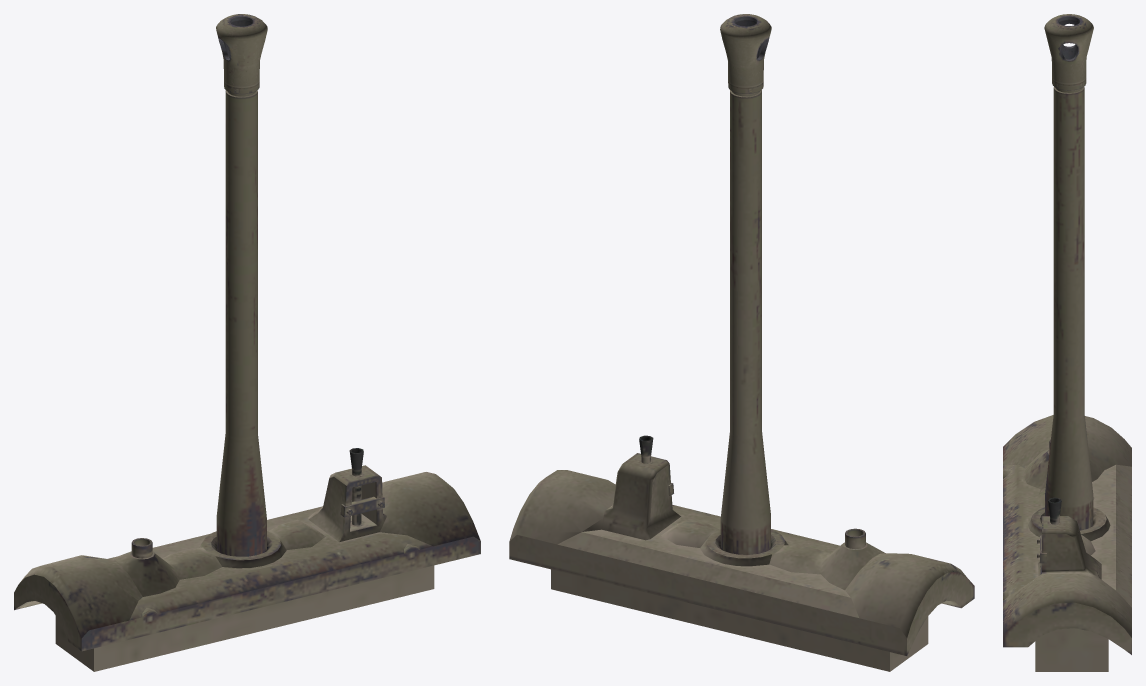
File: Gun_04.glb
3 views of the same model, side by side, from view 1: azimuth 30°, elevation 25°; view 2: azimuth 150°, elevation 25°; view 3: azimuth 270°, elevation 25° (orthographic). The views are drawn at different scales.
Parts seen in each view (by area): view 1: set_0_group_0; view 2: set_0_group_0; view 3: set_0_group_0.
Part boxes in pixels (box(x1,y1,x2,y2)): set_0_group_0: box(14, 14, 480, 671); set_0_group_0: box(509, 14, 974, 671); set_0_group_0: box(1003, 14, 1131, 671).
Size of the model in its own units: 1.53 by 2.19 by 0.4497.
Materials: 1 (1 with a texture image).
